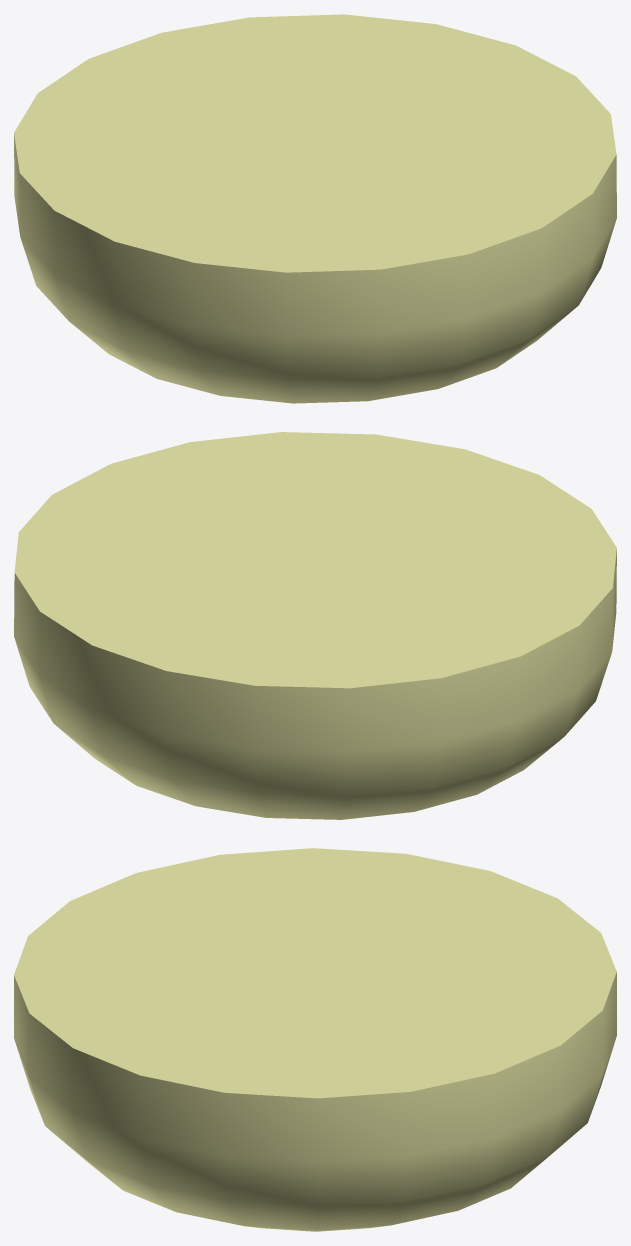
The model's file is SM_FridgeLight.fbx.
3 views of the same model, one above another, from view 1: azimuth 30°, elevation 25°; view 2: azimuth 150°, elevation 25°; view 3: azimuth 270°, elevation 25° (orthographic).
Visible parts, largest first — view 1: light; view 2: light; view 3: light.
Boxes of the visible parts, x1,y1,x2,y2 form: light: [14, 14, 616, 403]; light: [14, 432, 616, 819]; light: [14, 848, 616, 1231].
Bounding box in the file's own units: 0.3606 × 0.1307 × 0.3604.
